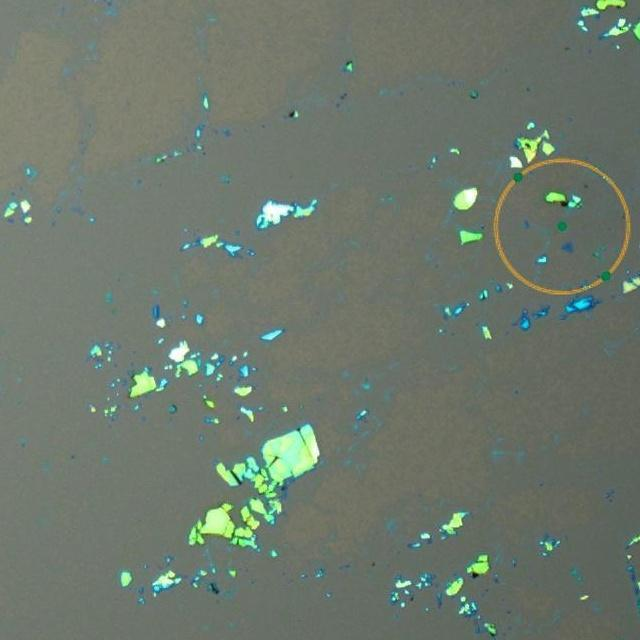monolayer-eWW4: (561, 242, 575, 255)
